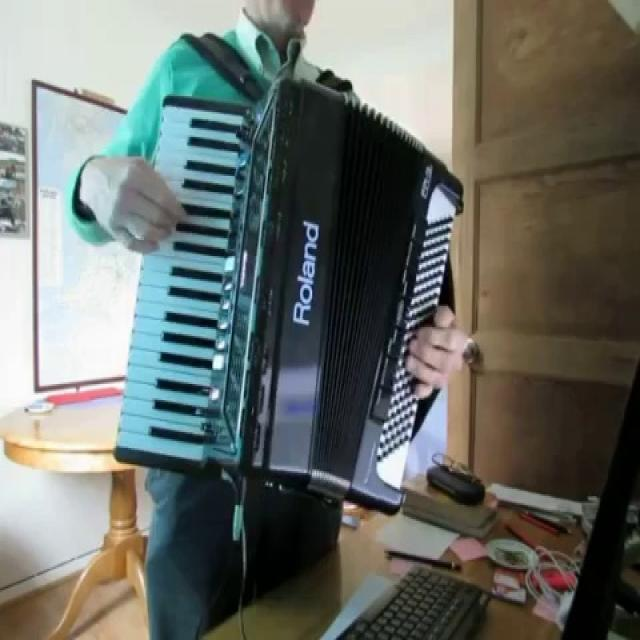Accordion: (101, 63, 483, 523)
